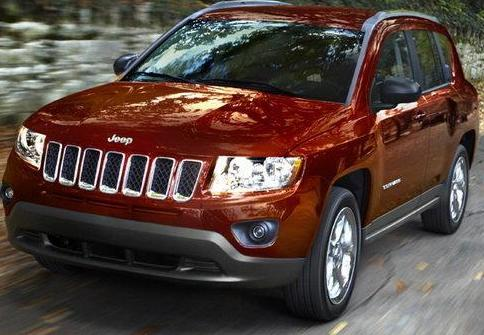front_view: (6, 110, 309, 293)
headlight: (201, 147, 304, 201)
side_glass: (366, 25, 456, 103)
